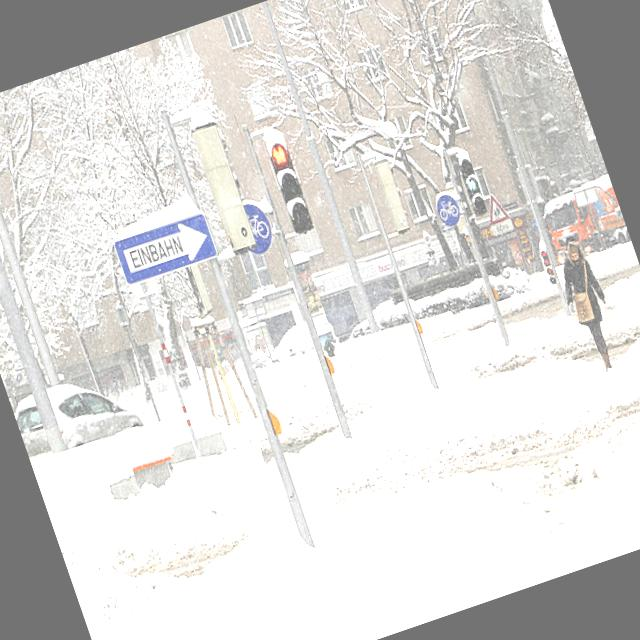Vehicle: (8, 359, 143, 462), (536, 172, 631, 264), (265, 321, 316, 364)
